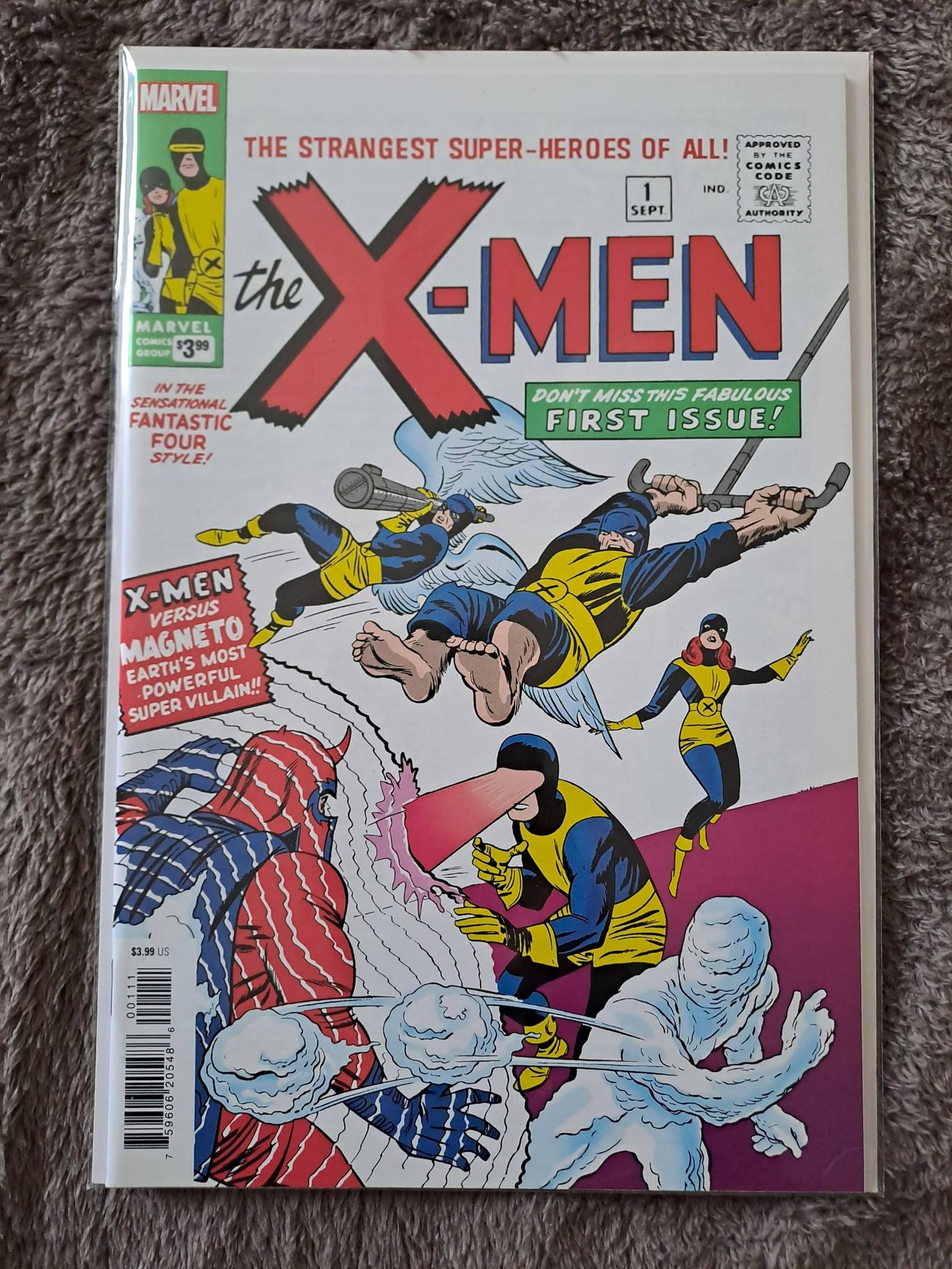comic: (95, 48, 885, 1192)
